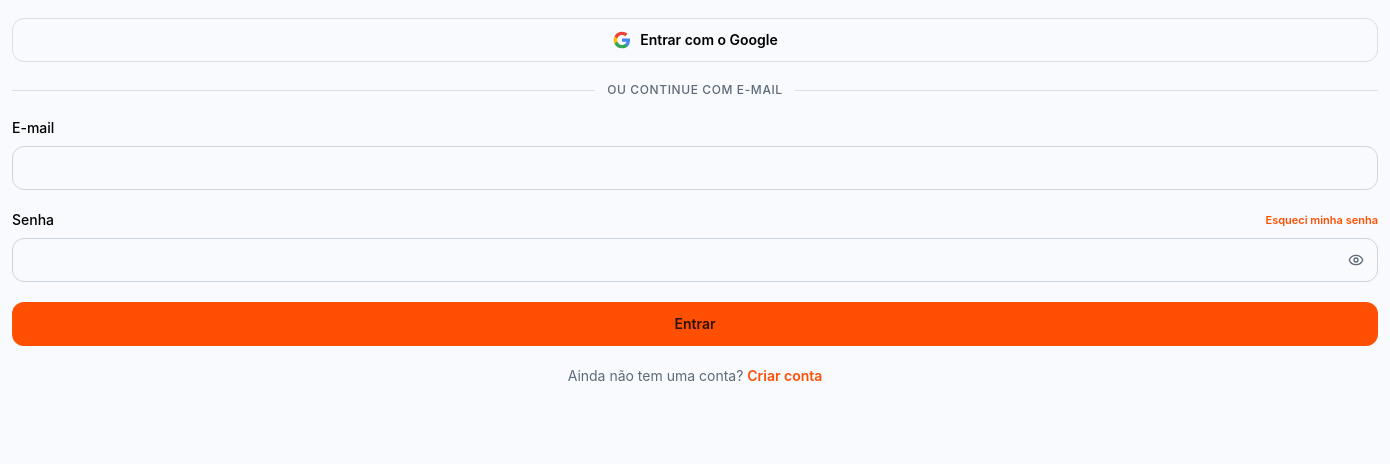
AuthForm › reports Google authentication as unavailable
The width and height of the screenshot is (1390, 464).
Click the button "Entrar com o Google" at (695, 40), box [12,18,1378,62]
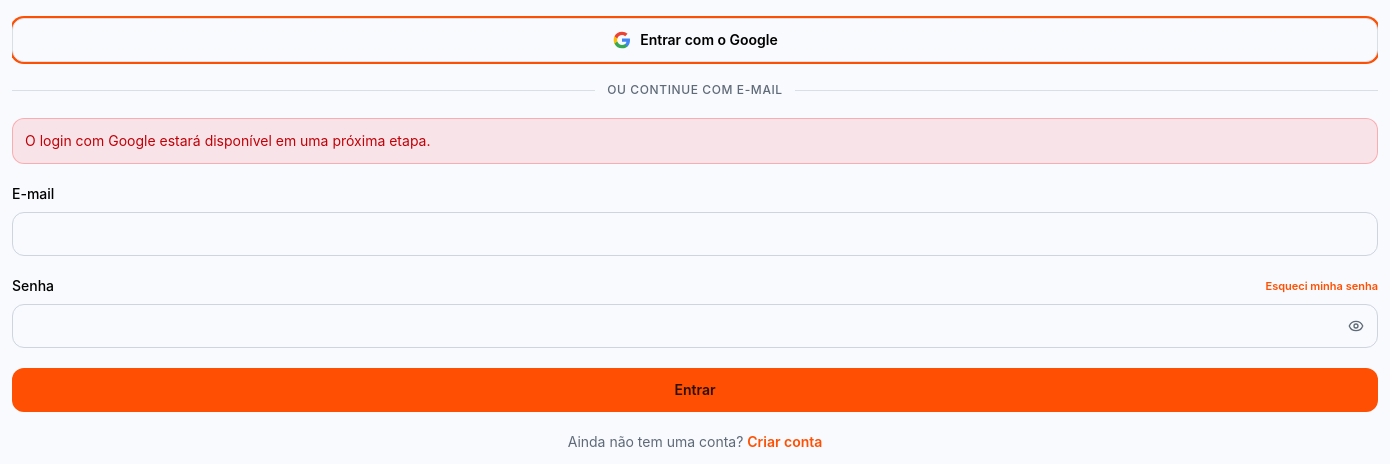
Expected: the message shows "próxima etapa", [25,132,430,149]
